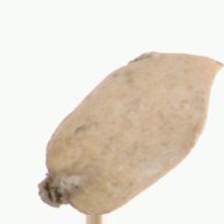L1: (36, 171, 82, 212), (196, 52, 223, 96)
L2: (37, 51, 223, 214)
